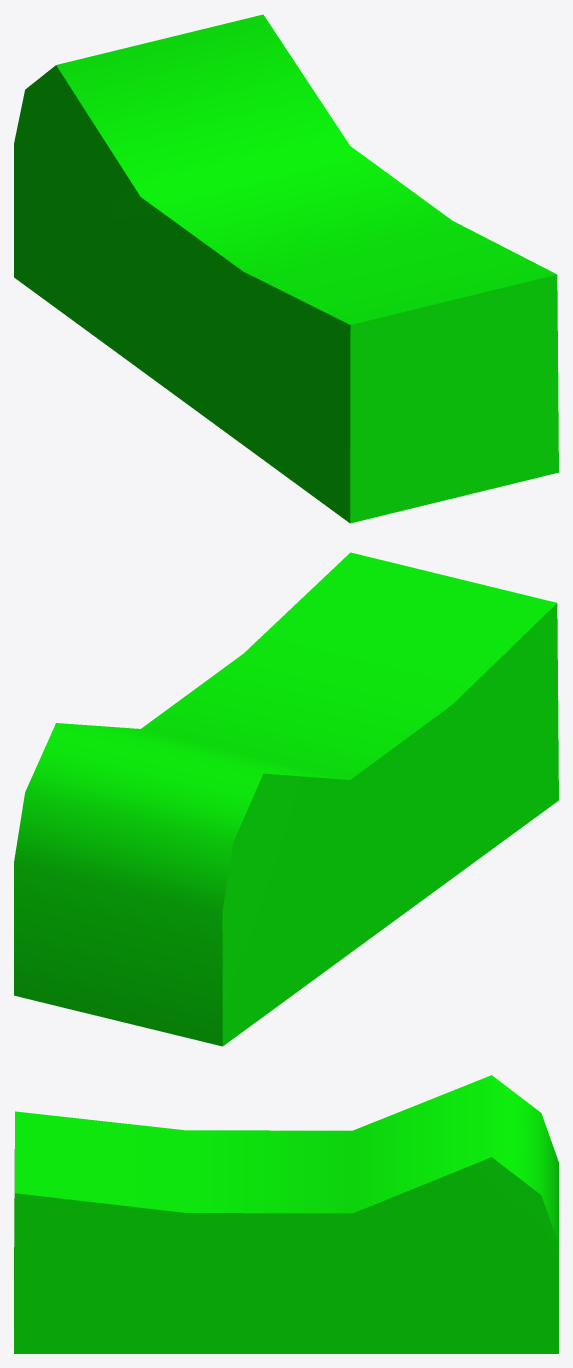
Rendered from SM_Button_Collider.fbx.
3 views of the same model, one above another, from view 1: azimuth 30°, elevation 25°; view 2: azimuth 150°, elevation 25°; view 3: azimuth 270°, elevation 25° (orthographic). The views are drawn at different scales.
Parts seen in each view (by area): view 1: SM_Button_Collider; view 2: SM_Button_Collider; view 3: SM_Button_Collider.
Boxes of the visible parts, <box> form: SM_Button_Collider: <box>14,14,558,523</box>; SM_Button_Collider: <box>14,552,558,1046</box>; SM_Button_Collider: <box>14,1075,558,1353</box>.
Size of the model in its own units: 2.53 by 2.8 by 7.03.
